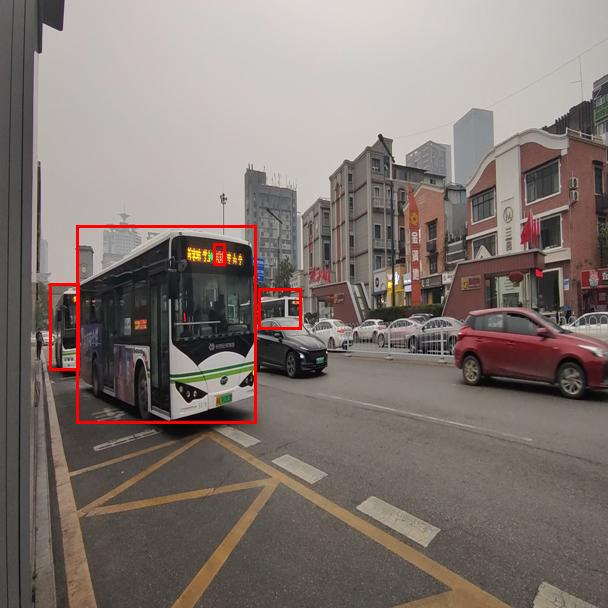bus: (76, 225, 256, 423), (49, 283, 79, 370), (258, 288, 301, 329)
screen: (213, 243, 225, 265)
